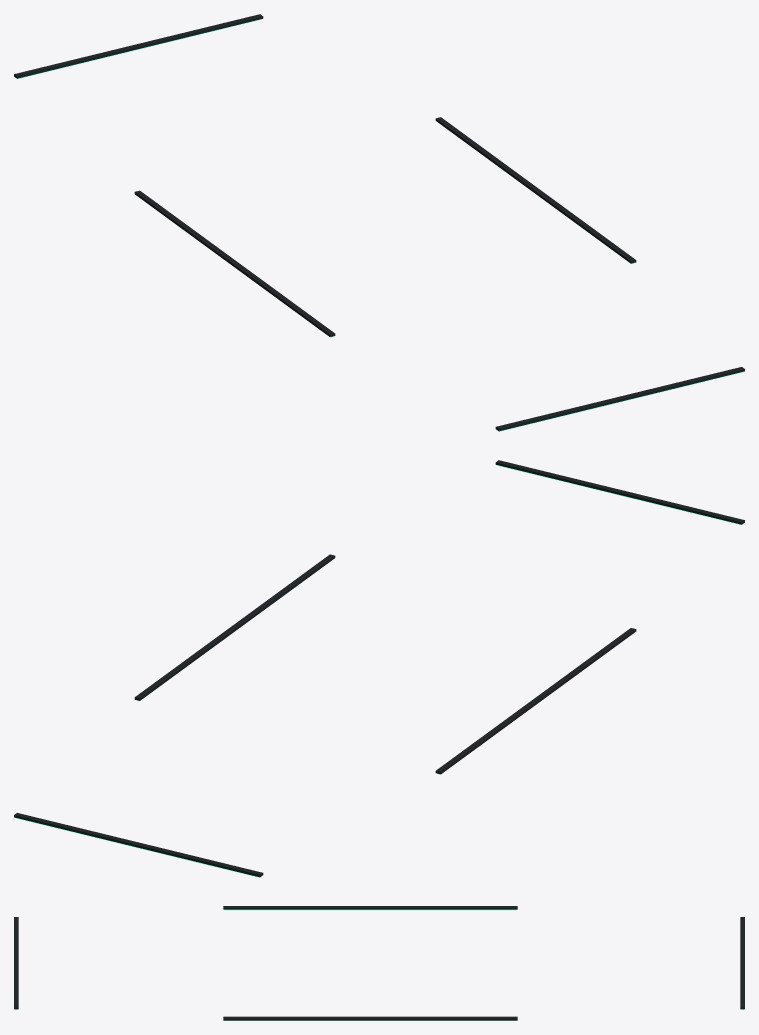
The model's file is ridgeback_4x4.glb.
3 views of the same model, one above another, from view 1: azimuth 30°, elevation 25°; view 2: azimuth 150°, elevation 25°; view 3: azimuth 270°, elevation 25° (orthographic). The views are drawn at different scales.
Parts seen in each view (by area): view 1: model; view 2: model; view 3: model.
Boxes of the visible parts, <box> form: model: <box>14,14,744,431</box>; model: <box>14,460,744,877</box>; model: <box>14,906,744,1020</box>.
Bounding box in the file's own units: 1.61 × 0.0178 × 4.41.
Materials: 2 (1 with a texture image).
